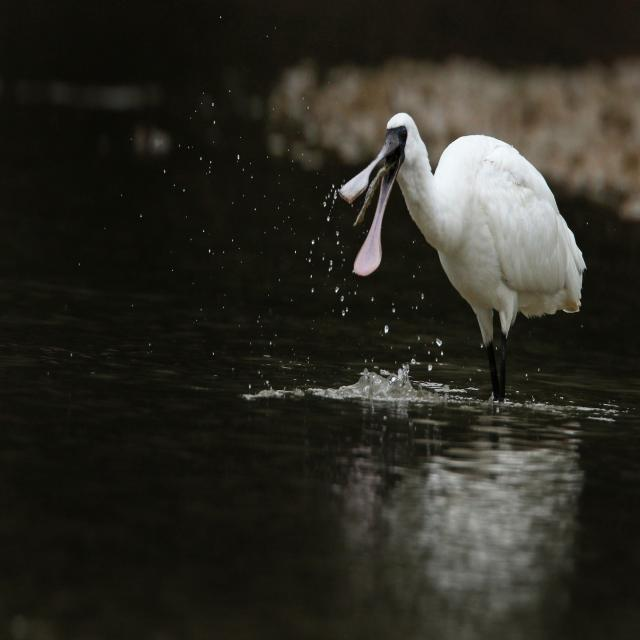Black-faced spoonbill: (339, 114, 585, 399)
